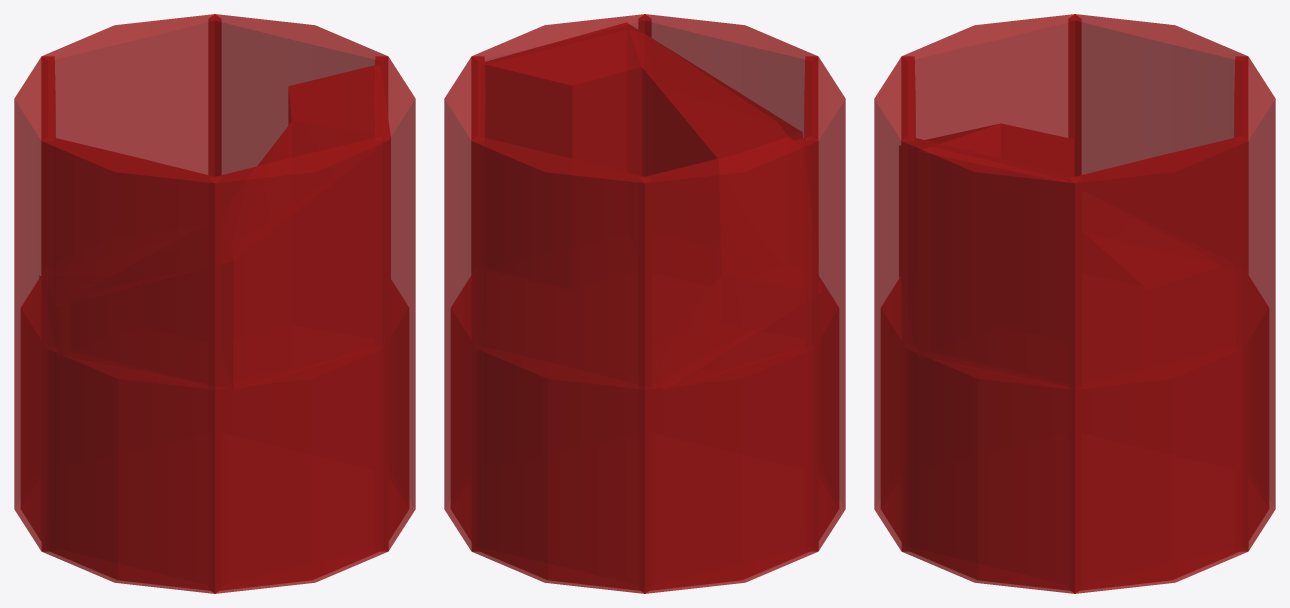
Rendered from SM_Env_Entrance_Stairs_Ruin_01_Collision.fbx.
The picture shows the model from 3 angles, left to right: view 1: azimuth 30°, elevation 25°; view 2: azimuth 150°, elevation 25°; view 3: azimuth 270°, elevation 25°; orthographic projection.
Parts seen in each view (by area): view 1: SM_Env_Entrance_Stairs_Ruin_01_Collision; view 2: SM_Env_Entrance_Stairs_Ruin_01_Collision; view 3: SM_Env_Entrance_Stairs_Ruin_01_Collision.
Boxes of the visible parts, box(x1,y1,x2,y2) form: SM_Env_Entrance_Stairs_Ruin_01_Collision: box(14, 14, 415, 593); SM_Env_Entrance_Stairs_Ruin_01_Collision: box(444, 14, 845, 593); SM_Env_Entrance_Stairs_Ruin_01_Collision: box(874, 14, 1275, 593).
Bounding box in the file's own units: 815 × 921 × 816.
